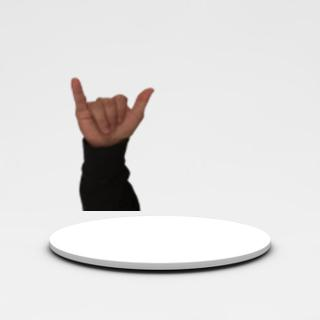HAVE: (60, 71, 157, 147)
